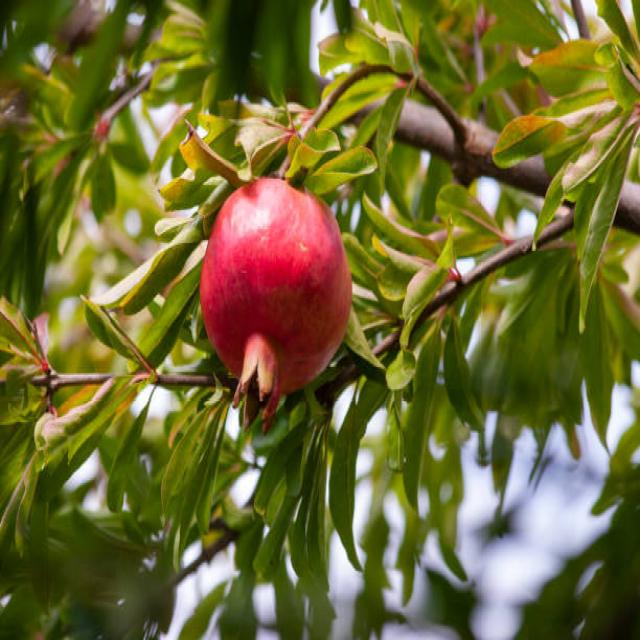Ripe: (197, 169, 356, 436)
